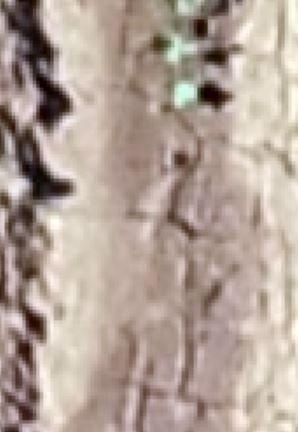cotton: (167, 38, 195, 63), (174, 82, 199, 106)
